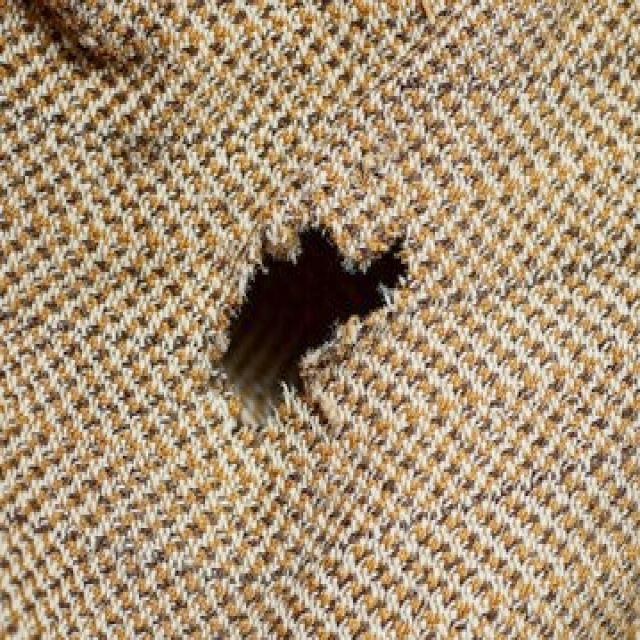seam: (166, 150, 442, 458)
